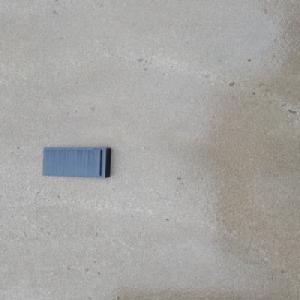PlasticPart: (40, 146, 112, 179)
